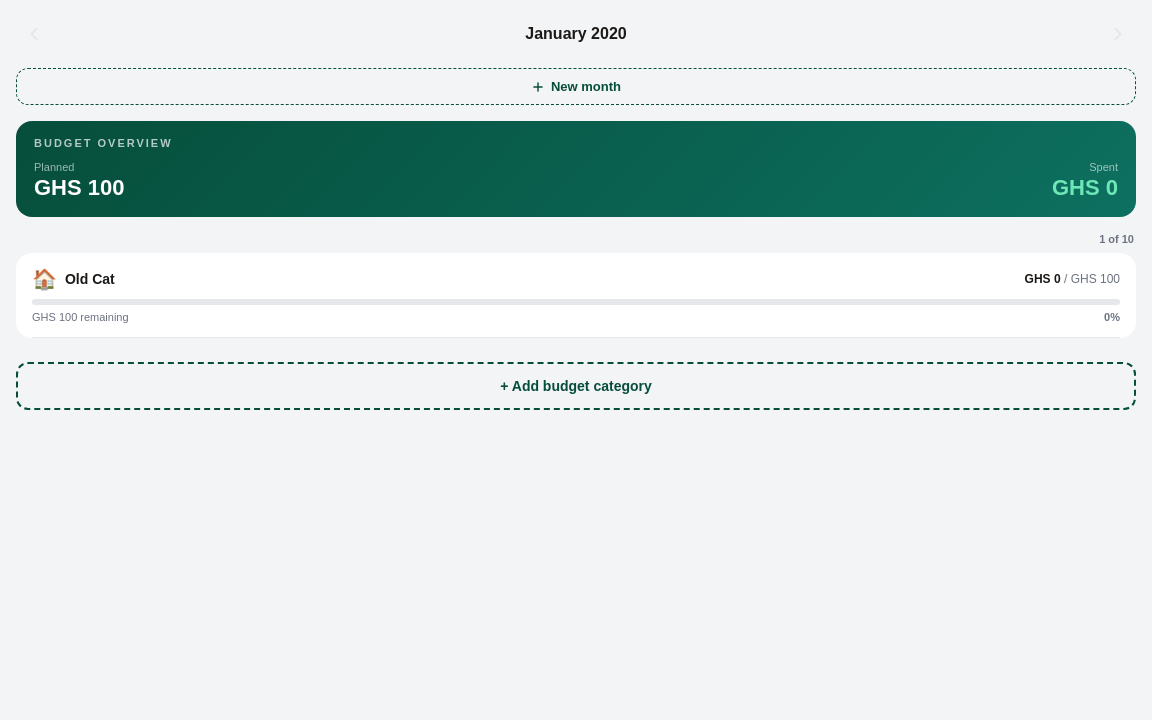
BudgetView — cycles › adding on a past cycle opens the confirm modal instead of the add sheet
Click the button "+ Add budget category" at (576, 386), box [16,362,1136,410]
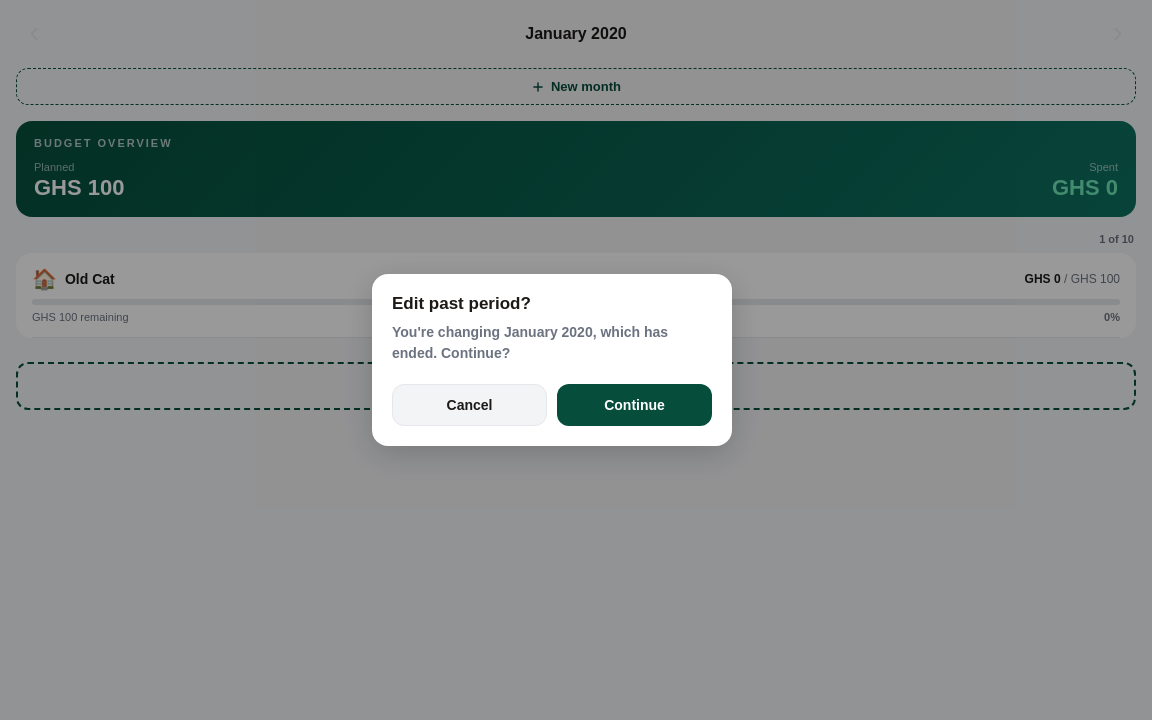
Now the text "Edit past period?" is shown, box [392,294,531,313]
Now the text "You're changing January 2020, which has ended. Continue?" is shown, box [392,322,712,364]
